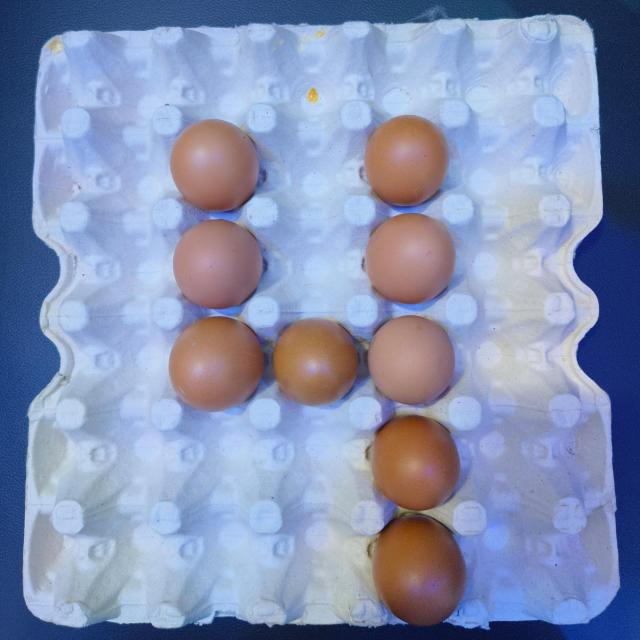Eggs: (370, 514, 467, 624), (166, 319, 265, 413), (369, 108, 453, 214), (168, 221, 268, 308), (274, 320, 366, 414), (366, 216, 460, 304), (372, 416, 458, 512), (169, 122, 260, 212), (371, 321, 458, 407)
